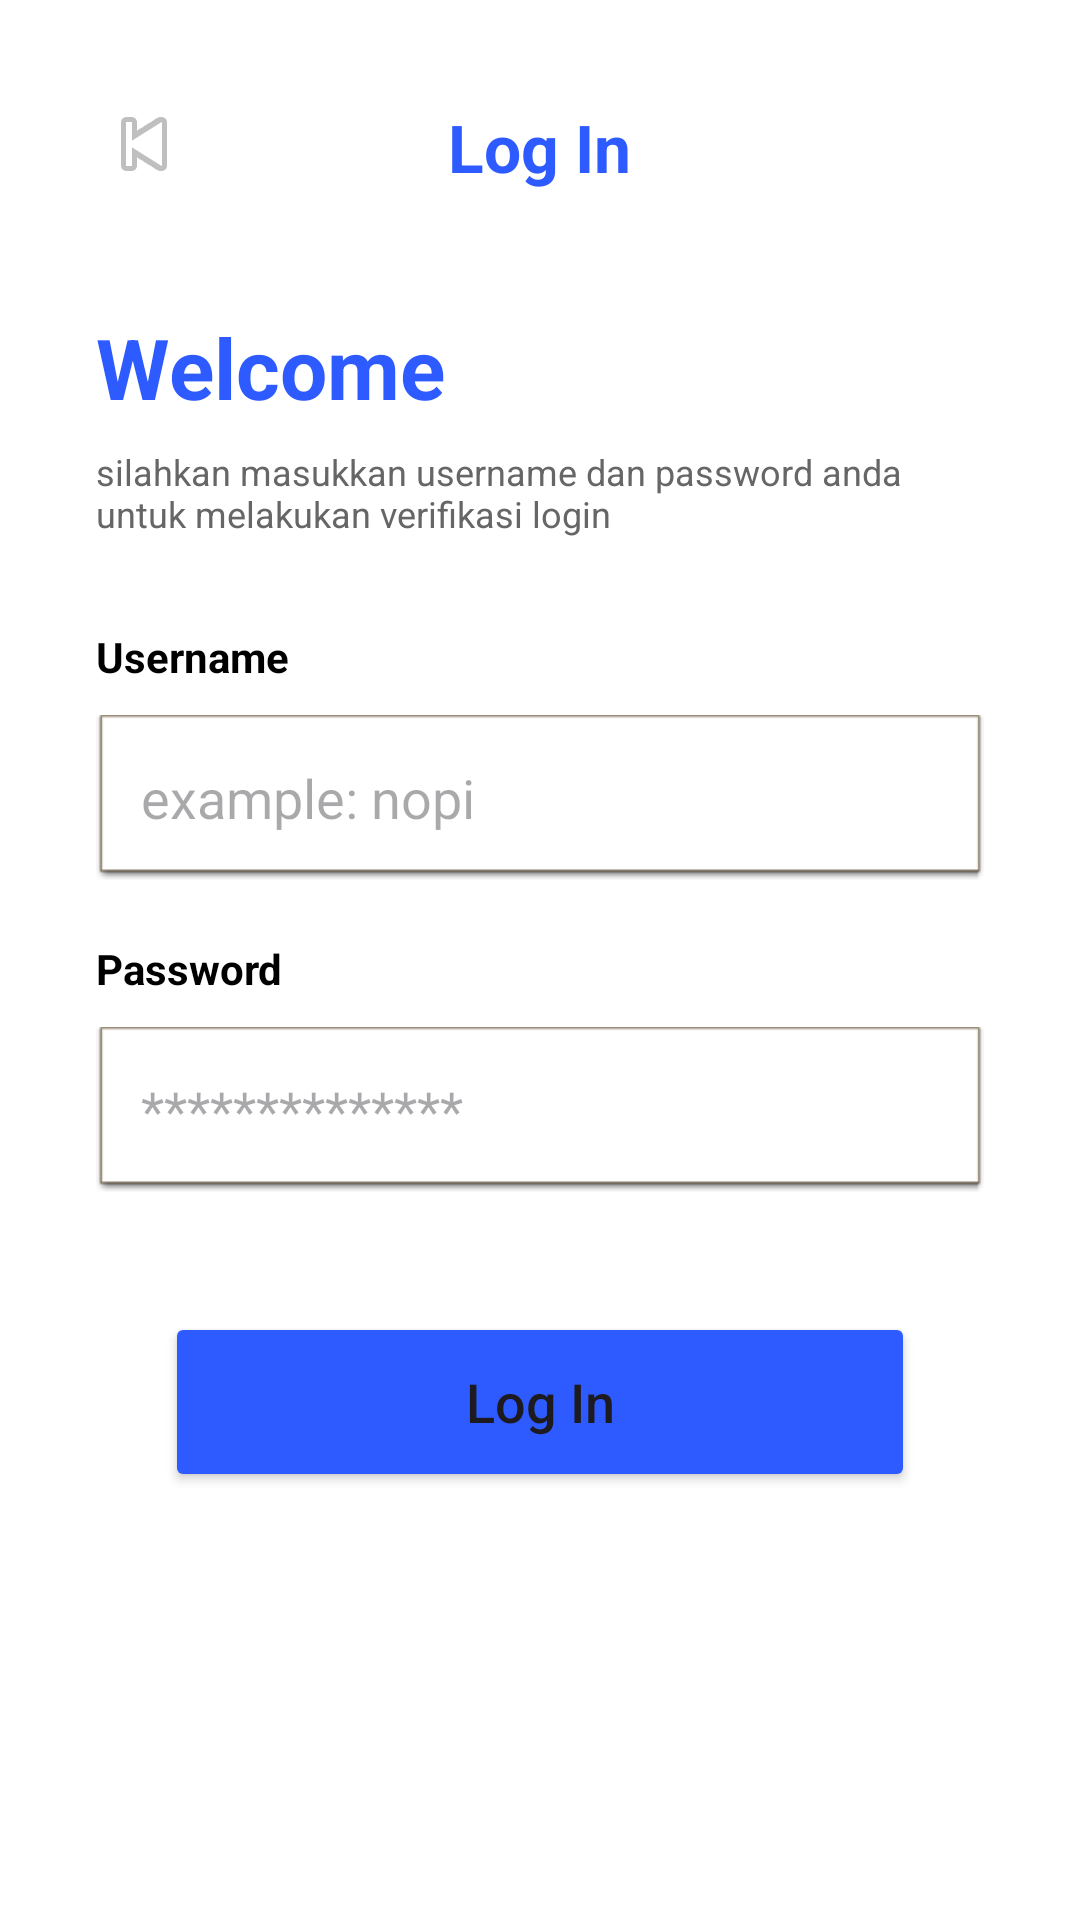

Icons on this 1080w x 1920h Android screen, each with its box as box(x1, y1, x2, y2):
Back: box(121, 117, 167, 171)
